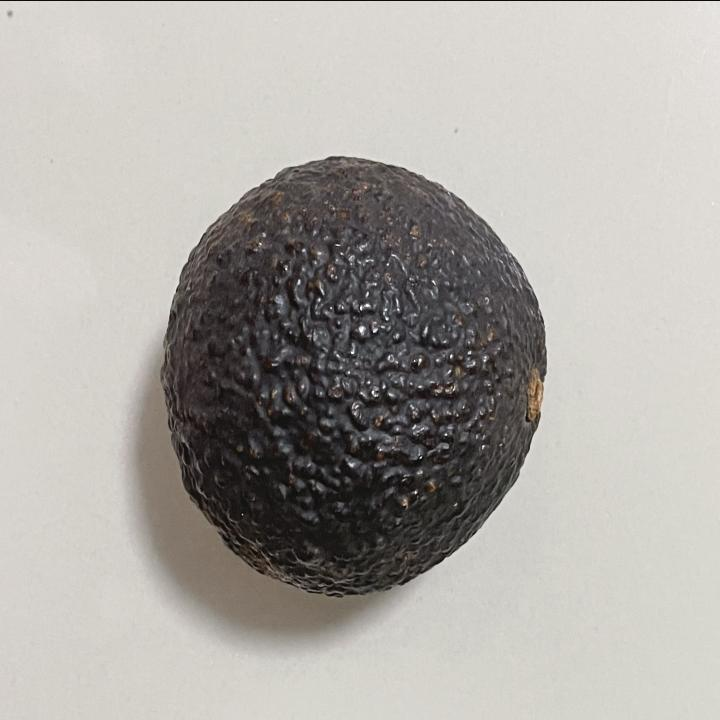Level2: (154, 146, 556, 606)
